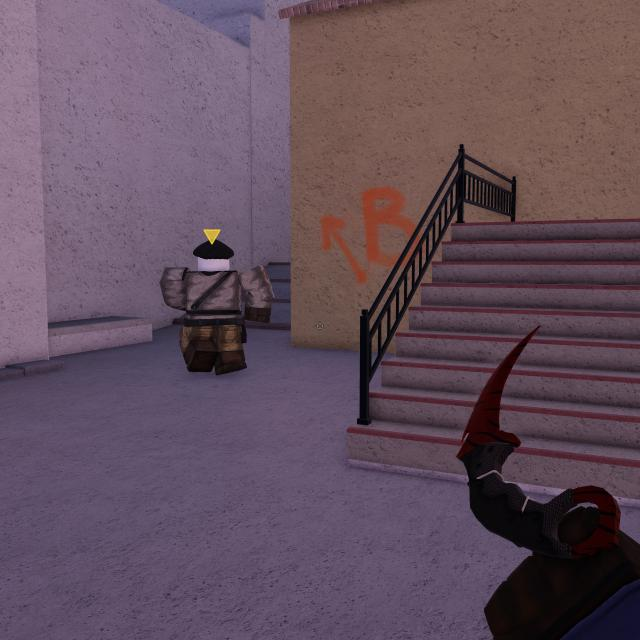Head: (194, 242, 233, 274)
Player: (159, 238, 271, 373)
